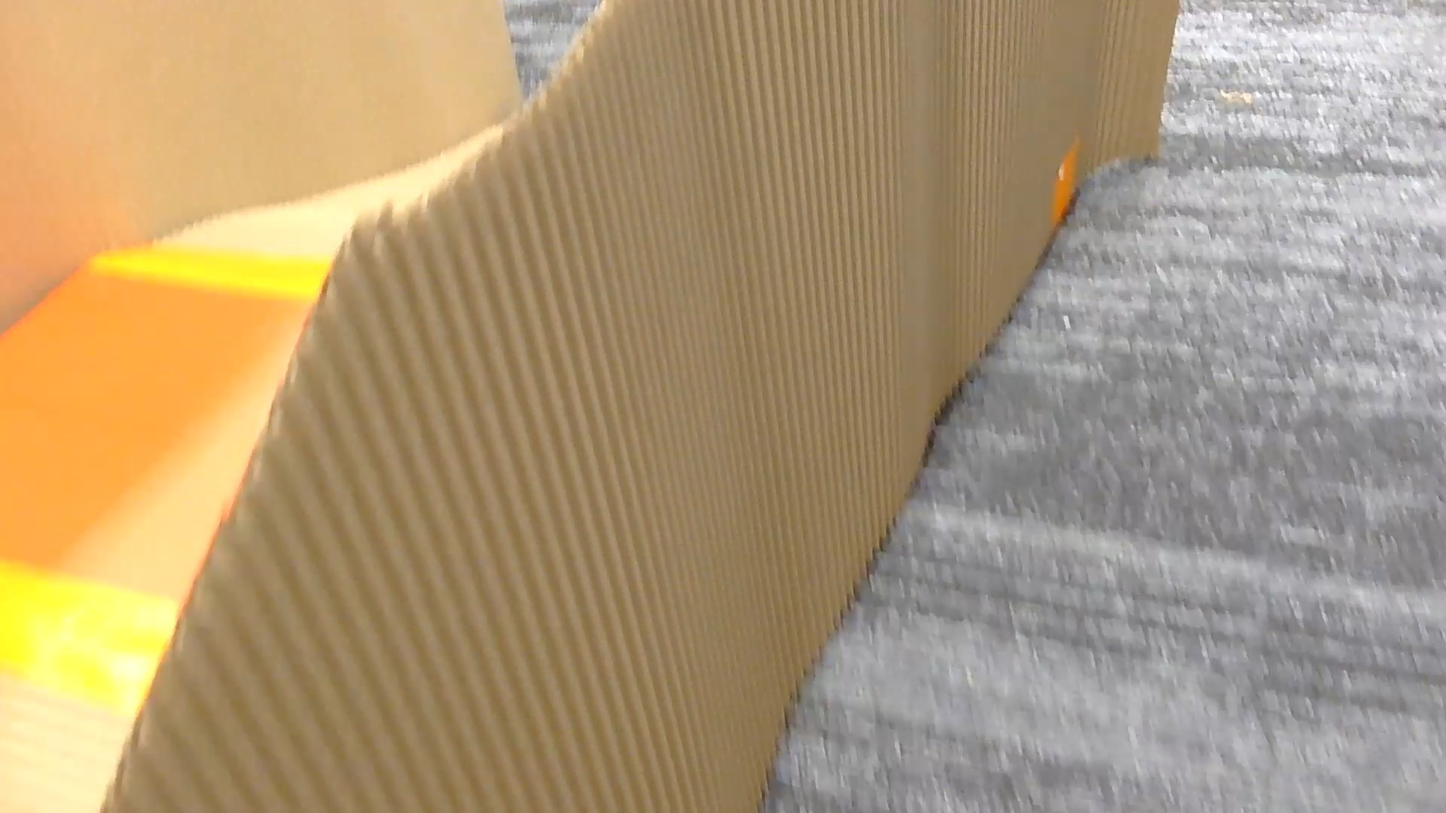Ramp: (0, 0, 1179, 812)
